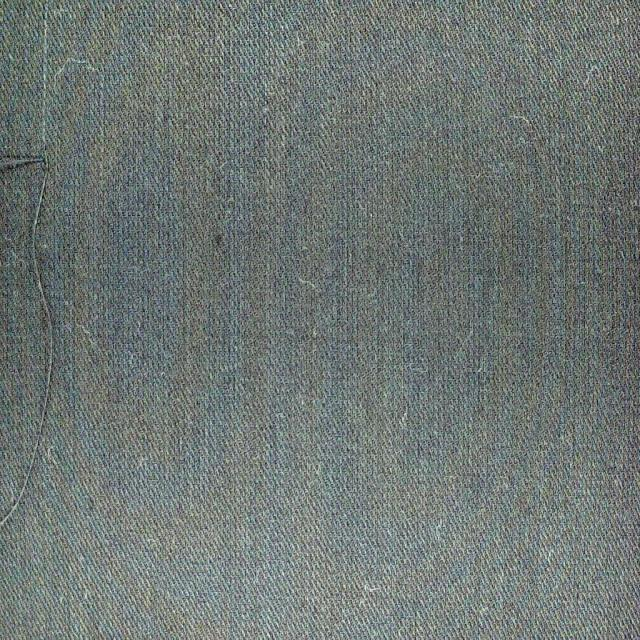defect: (0, 149, 59, 535)
